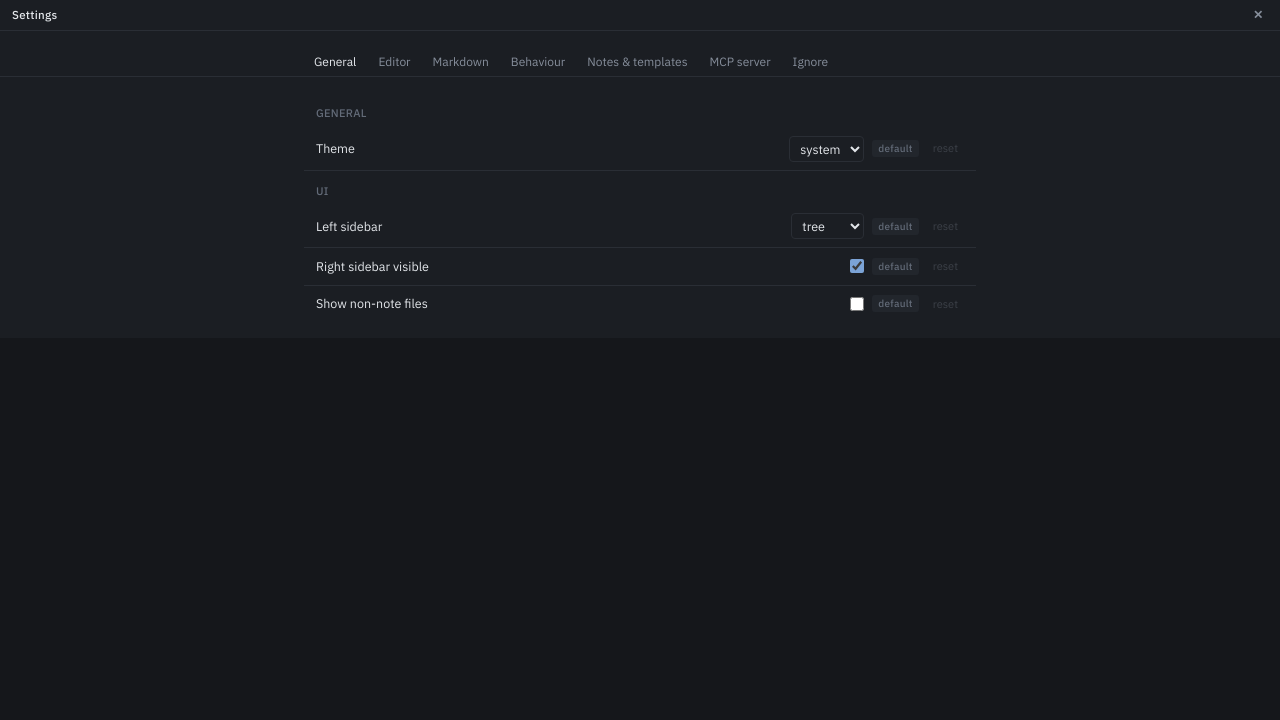
it: SettingsPanel › Templates / New notes / Daily notes (M10.26) › shows the empty-templates hint and disables the pickers when there are no templates
Click the tab "Notes & templates". click: point(637, 62)
box: [577, 47, 698, 77]
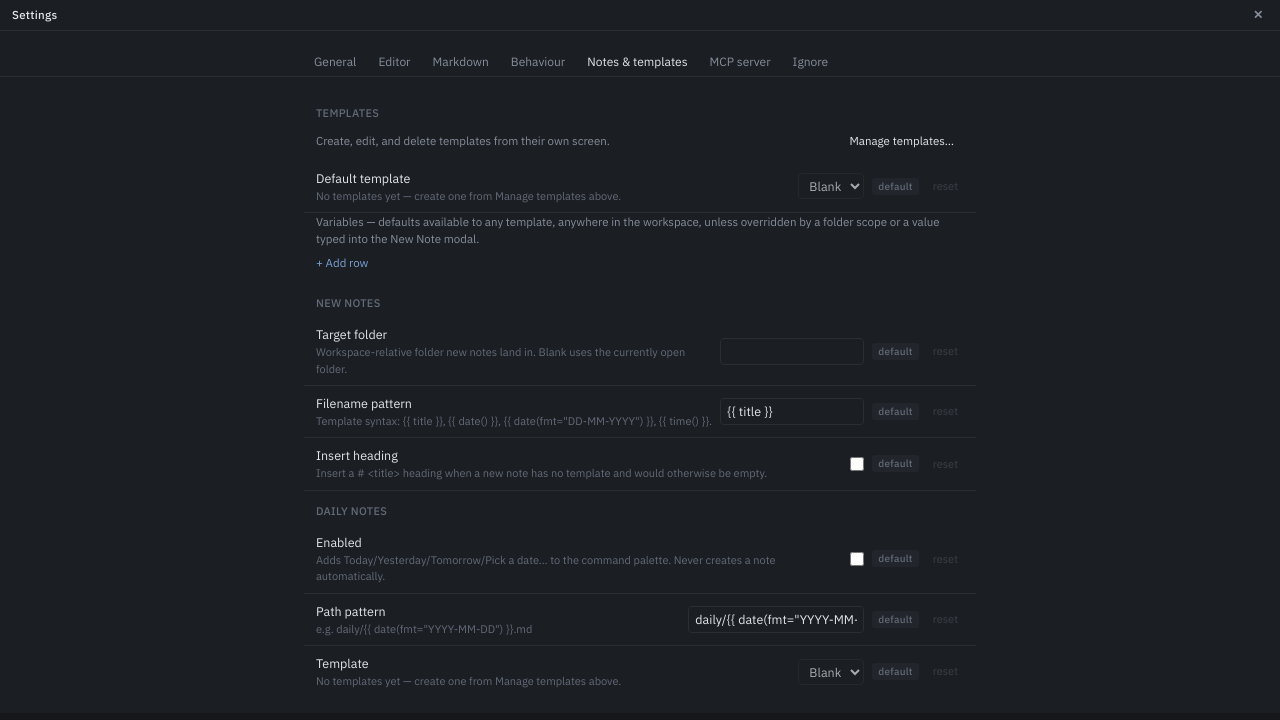
expect the text "No templates yet — create one from Manage templates above." is shown 2 times: met, box [316, 188, 621, 202]; [316, 674, 621, 688]
expect the dropdown named "Default template" is disabled: met, box [798, 173, 864, 199]
expect the dropdown named "Daily note template" is disabled: met, box [798, 659, 864, 685]
